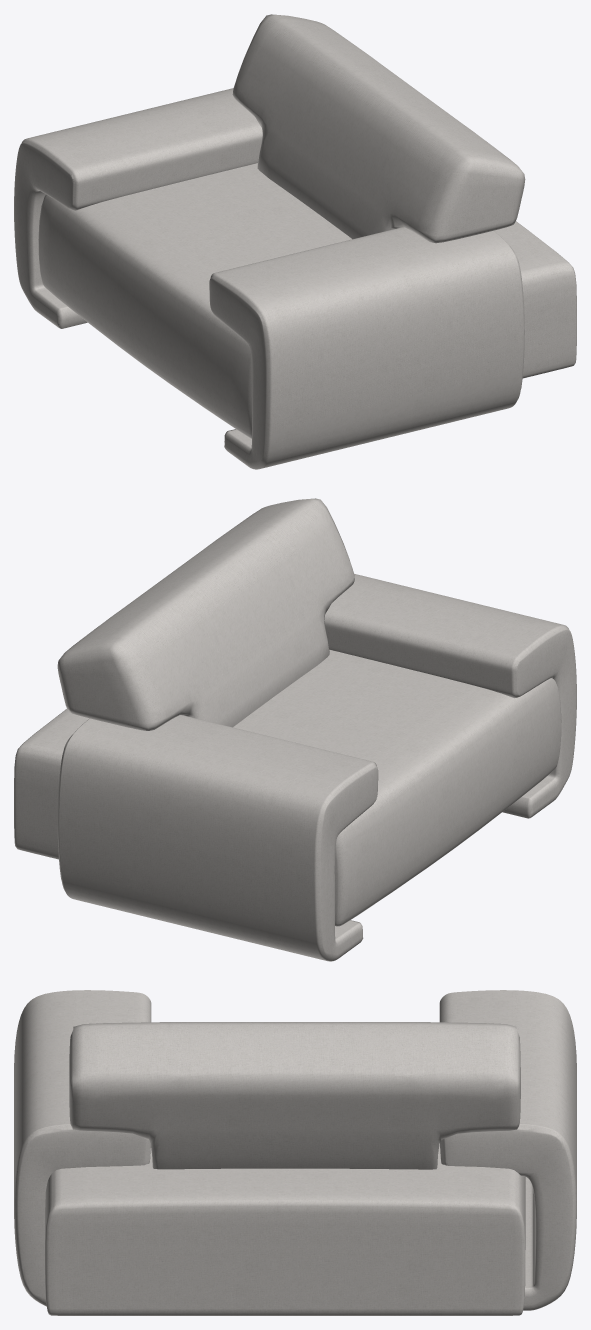
Rendered from shafa02.fbx.
3 views of the same model, one above another, from view 1: azimuth 30°, elevation 25°; view 2: azimuth 150°, elevation 25°; view 3: azimuth 270°, elevation 25° (orthographic). The views are drawn at different scales.
Parts seen in each view (by area): view 1: shafa02; view 2: shafa02; view 3: shafa02.
Boxes of the visible parts, <box> form: shafa02: <box>14,14,576,469</box>; shafa02: <box>14,498,576,961</box>; shafa02: <box>14,990,576,1315</box>.
Size of the model in its own units: 118 by 84.75 by 157.
